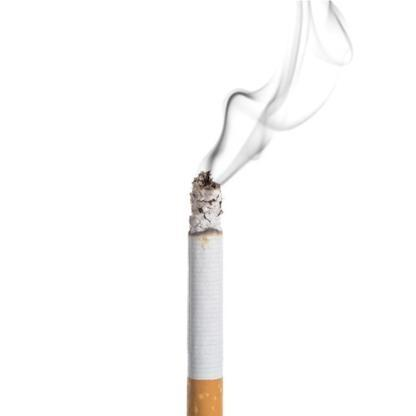trash: (185, 166, 228, 416)
